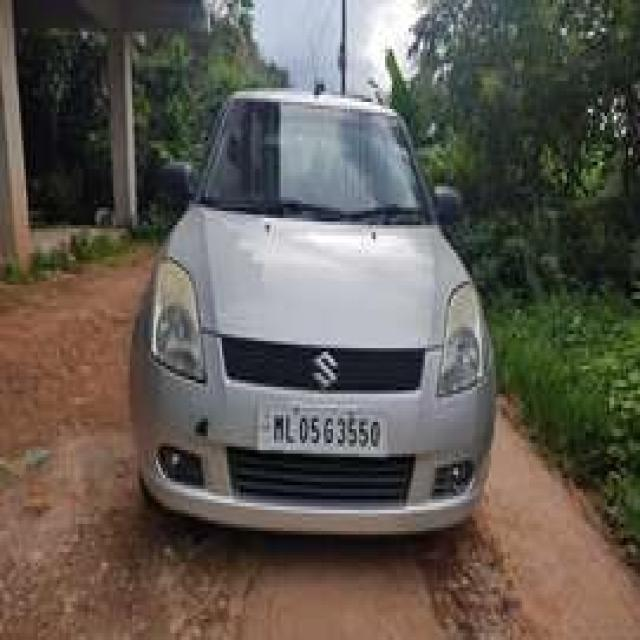licenseplate: (259, 401, 390, 454)
